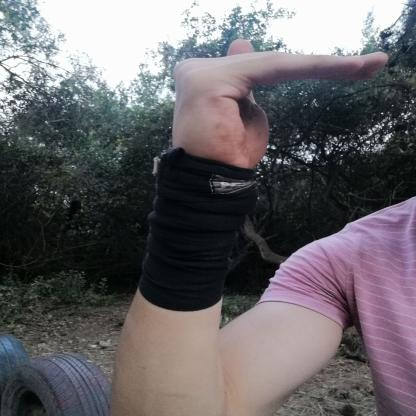KHAA: (145, 29, 406, 188)
